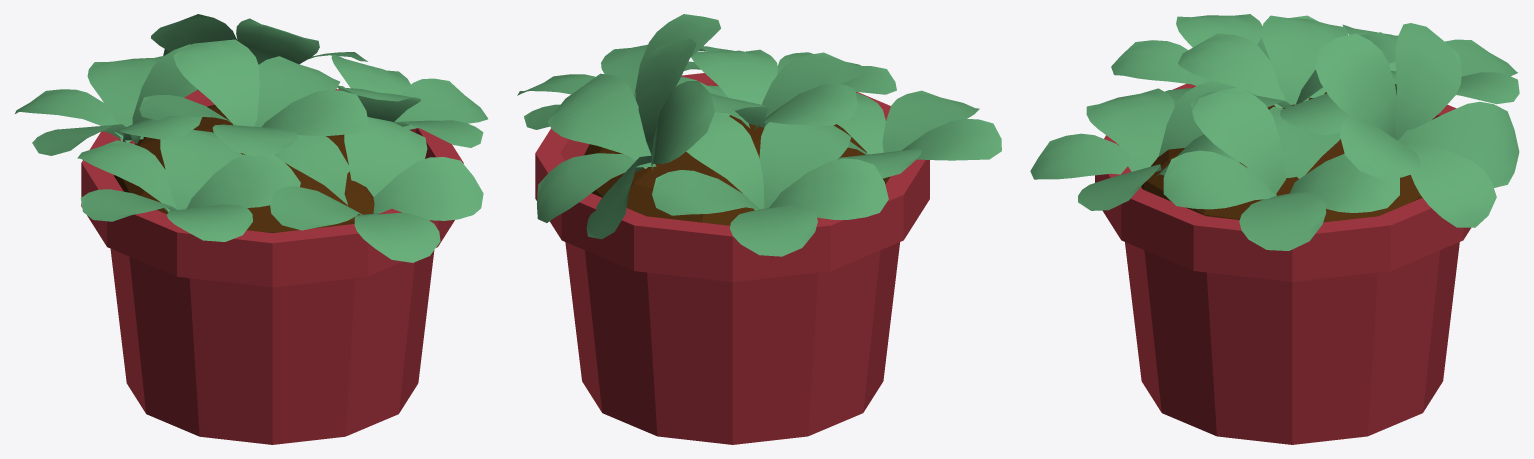
The model's file is msh_plants_09.fbx.
The picture shows the model from 3 angles, left to right: view 1: azimuth 30°, elevation 25°; view 2: azimuth 150°, elevation 25°; view 3: azimuth 270°, elevation 25°; orthographic projection. The views are drawn at different scales.
Visible parts, largest first — view 1: pCylinder3, pPlane209, pPlane25, pPlane205, pPlane204, pSphere1, pPlane200, pPlane22, pPlane208, pPlane26, pPlane201, pPlane195 (+16 smaller); view 2: pCylinder3, pPlane194, pPlane197, pPlane198, pSphere1, pPlane199, pPlane190, pPlane192, pPlane196, pPlane195, pPlane203, pPlane22 (+13 smaller); view 3: pCylinder3, pPlane212, pPlane193, pPlane192, pPlane191, pPlane190, pPlane213, pPlane207, pPlane23, pPlane24, pPlane214, pPlane210 (+13 smaller).
Boxes of the visible parts, bbox=[...] form: pCylinder3: bbox=[81, 89, 463, 444]; pPlane209: bbox=[373, 157, 483, 220]; pPlane25: bbox=[173, 39, 259, 126]; pPlane205: bbox=[344, 117, 427, 196]; pPlane204: bbox=[186, 154, 300, 208]; pSphere1: bbox=[114, 104, 374, 232]; pPlane200: bbox=[160, 129, 244, 209]; pPlane22: bbox=[261, 90, 368, 135]; pPlane208: bbox=[354, 213, 440, 262]; pPlane26: bbox=[254, 56, 339, 127]; pPlane201: bbox=[77, 140, 177, 211]; pPlane195: bbox=[87, 56, 163, 141]; pCylinder3: bbox=[535, 73, 929, 444]; pPlane194: bbox=[547, 73, 651, 168]; pPlane197: bbox=[769, 158, 888, 219]; pPlane198: bbox=[759, 122, 851, 208]; pSphere1: bbox=[584, 115, 889, 225]; pPlane199: bbox=[686, 112, 764, 210]; pPlane190: bbox=[537, 153, 656, 222]; pPlane192: bbox=[651, 81, 714, 169]; pPlane196: bbox=[730, 204, 817, 256]; pPlane195: bbox=[652, 170, 760, 215]; pPlane203: bbox=[882, 90, 979, 152]; pPlane22: bbox=[691, 49, 778, 104]; pCylinder3: bbox=[1095, 83, 1470, 444]; pPlane212: bbox=[1192, 87, 1286, 193]; pPlane193: bbox=[1315, 33, 1396, 138]; pPlane192: bbox=[1394, 23, 1461, 140]; pPlane191: bbox=[1398, 101, 1519, 187]; pPlane190: bbox=[1404, 144, 1496, 227]; pPlane213: bbox=[1163, 150, 1276, 209]; pPlane207: bbox=[1086, 88, 1174, 167]; pPlane23: bbox=[1178, 33, 1286, 108]; pPlane24: bbox=[1261, 15, 1347, 104]; pPlane214: bbox=[1239, 192, 1326, 250]; pPlane210: bbox=[1290, 153, 1399, 212].
Size of the model in its own units: 0.8333 by 0.6357 by 0.8012.
